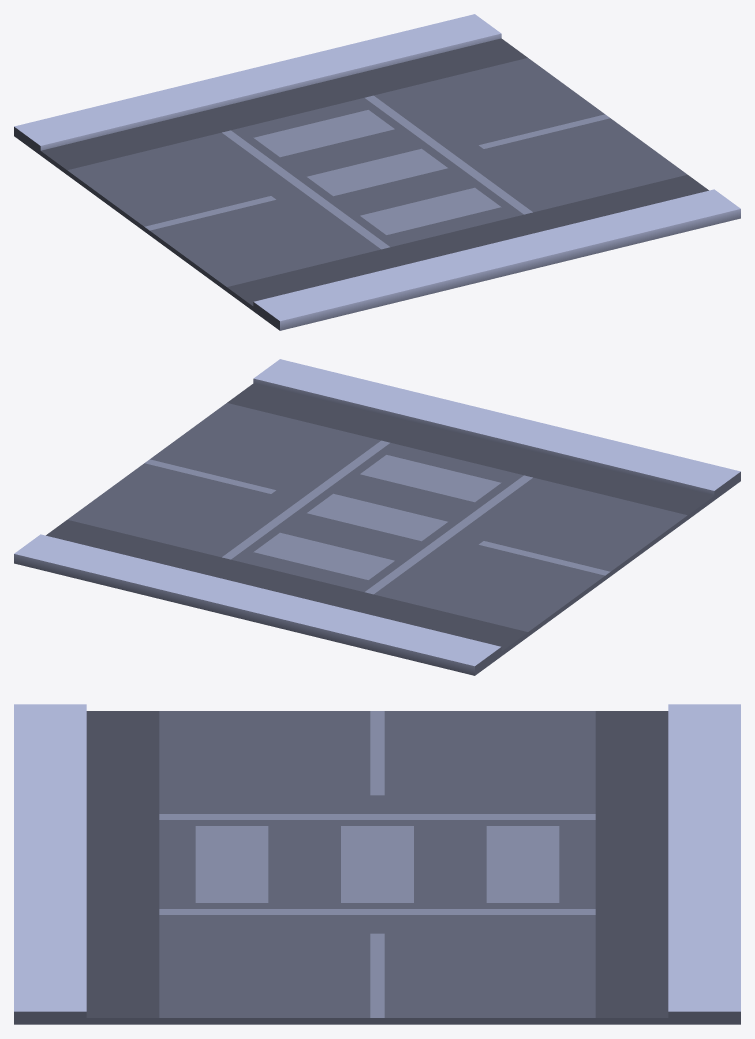
File: road-crossing.fbx
The picture shows the model from 3 angles, top to bottom: view 1: azimuth 30°, elevation 25°; view 2: azimuth 150°, elevation 25°; view 3: azimuth 270°, elevation 25°; orthographic projection. The views are drawn at different scales.
Visible parts, largest first — view 1: road-crossing; view 2: road-crossing; view 3: road-crossing.
Boxes of the visible parts, bbox=[...] form: road-crossing: bbox=[14, 14, 740, 330]; road-crossing: bbox=[14, 359, 740, 675]; road-crossing: bbox=[14, 704, 740, 1024].
Bounding box in the file's own units: 100 × 2 × 100.
